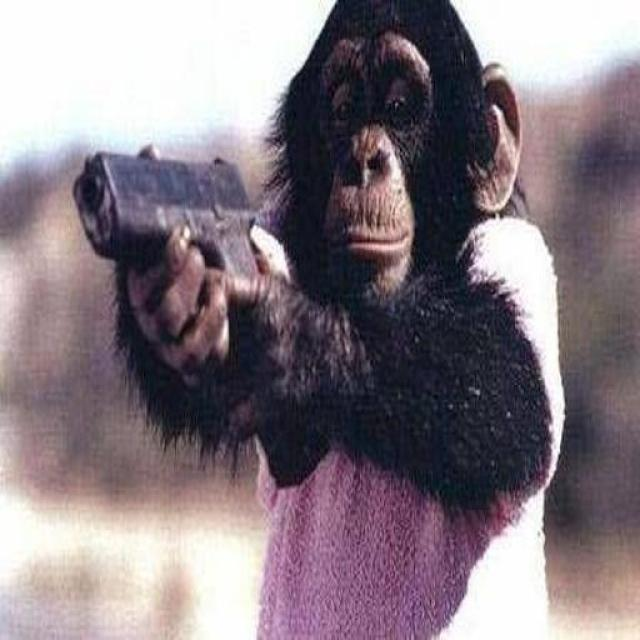pistol: (70, 149, 262, 281)
